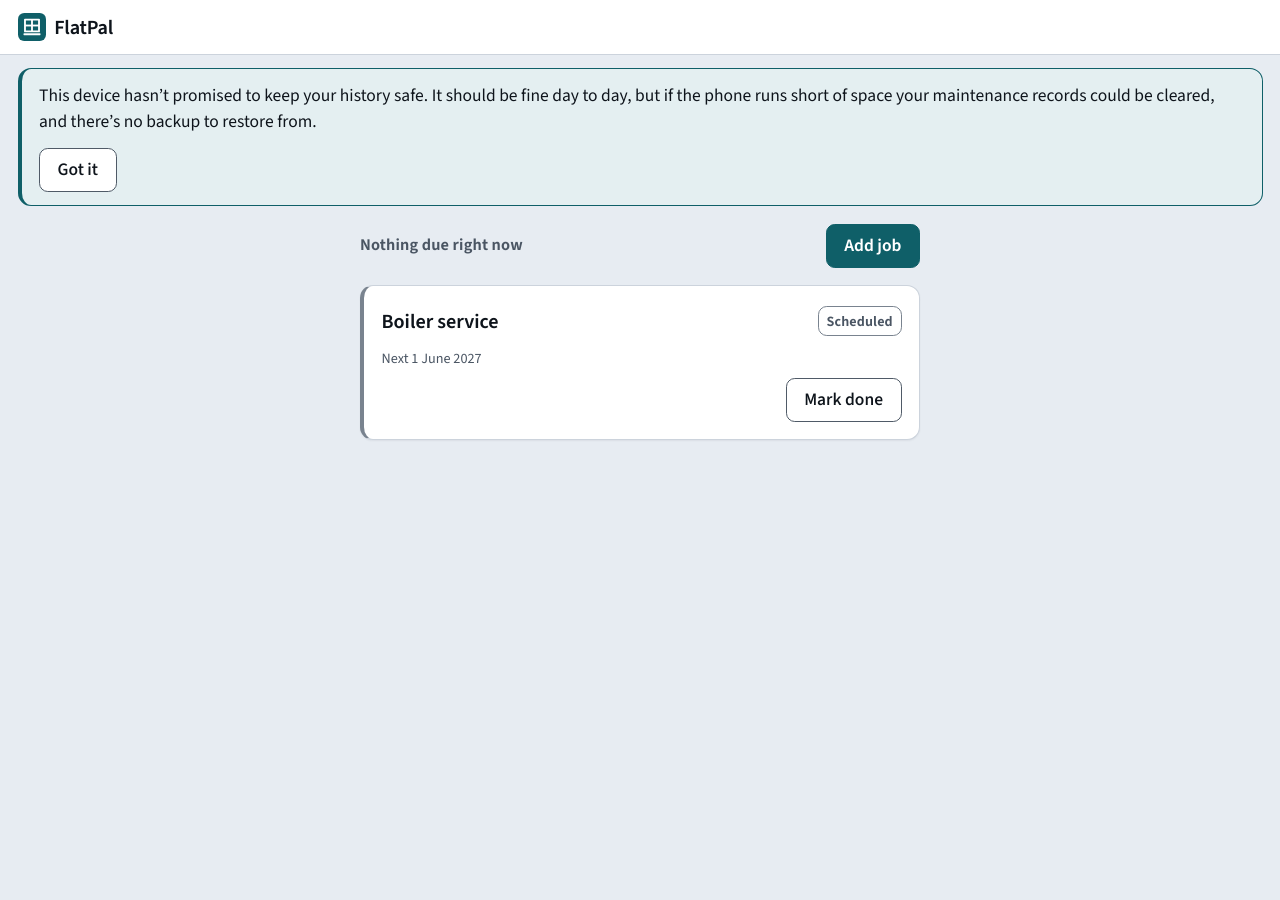
Test case: deleting a job › asks first, and has deleted nothing by the time it asks
Click the button "Boiler service" at (440, 321), box [382, 299, 499, 343]
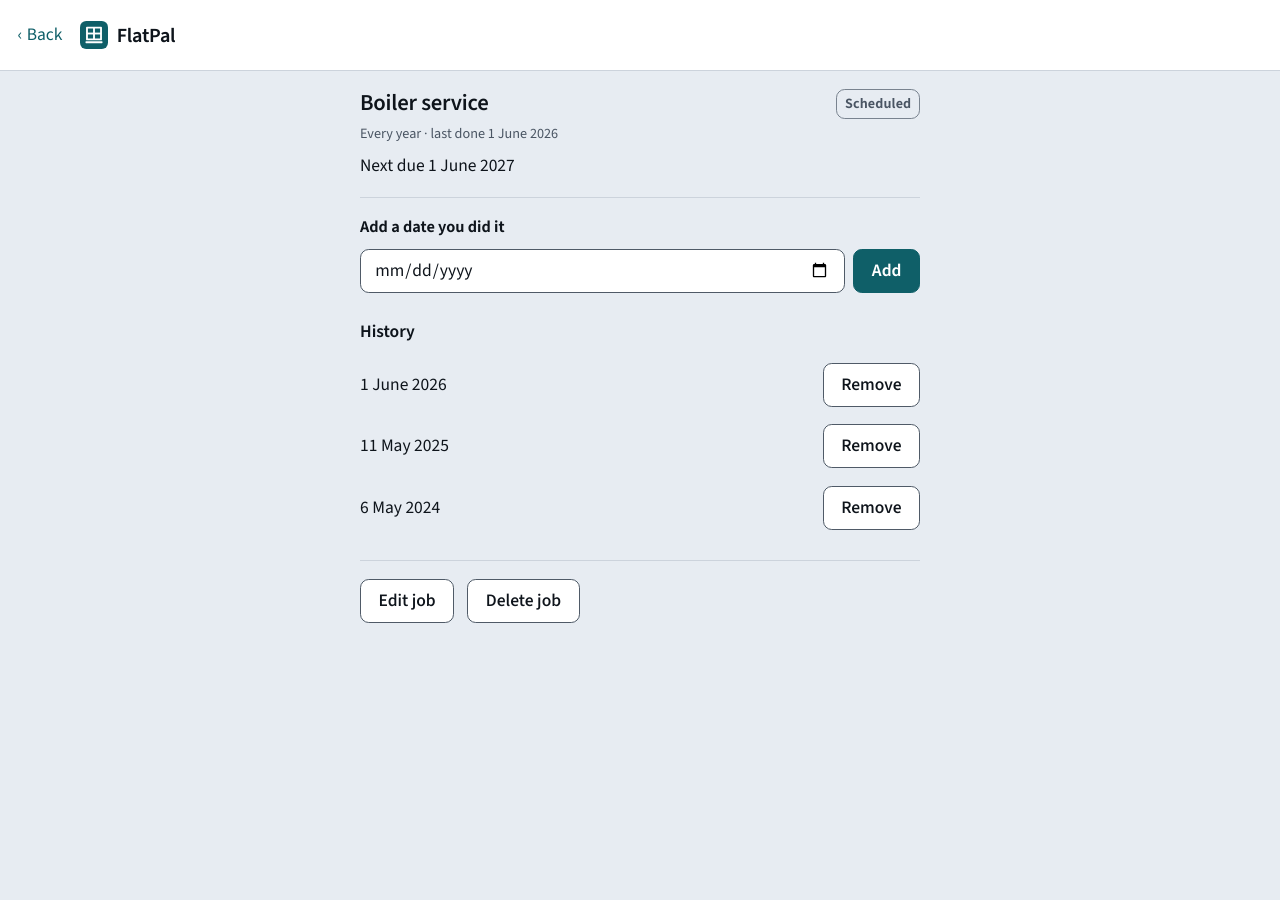
Click the button "Delete job" at (523, 601), box [467, 579, 580, 623]
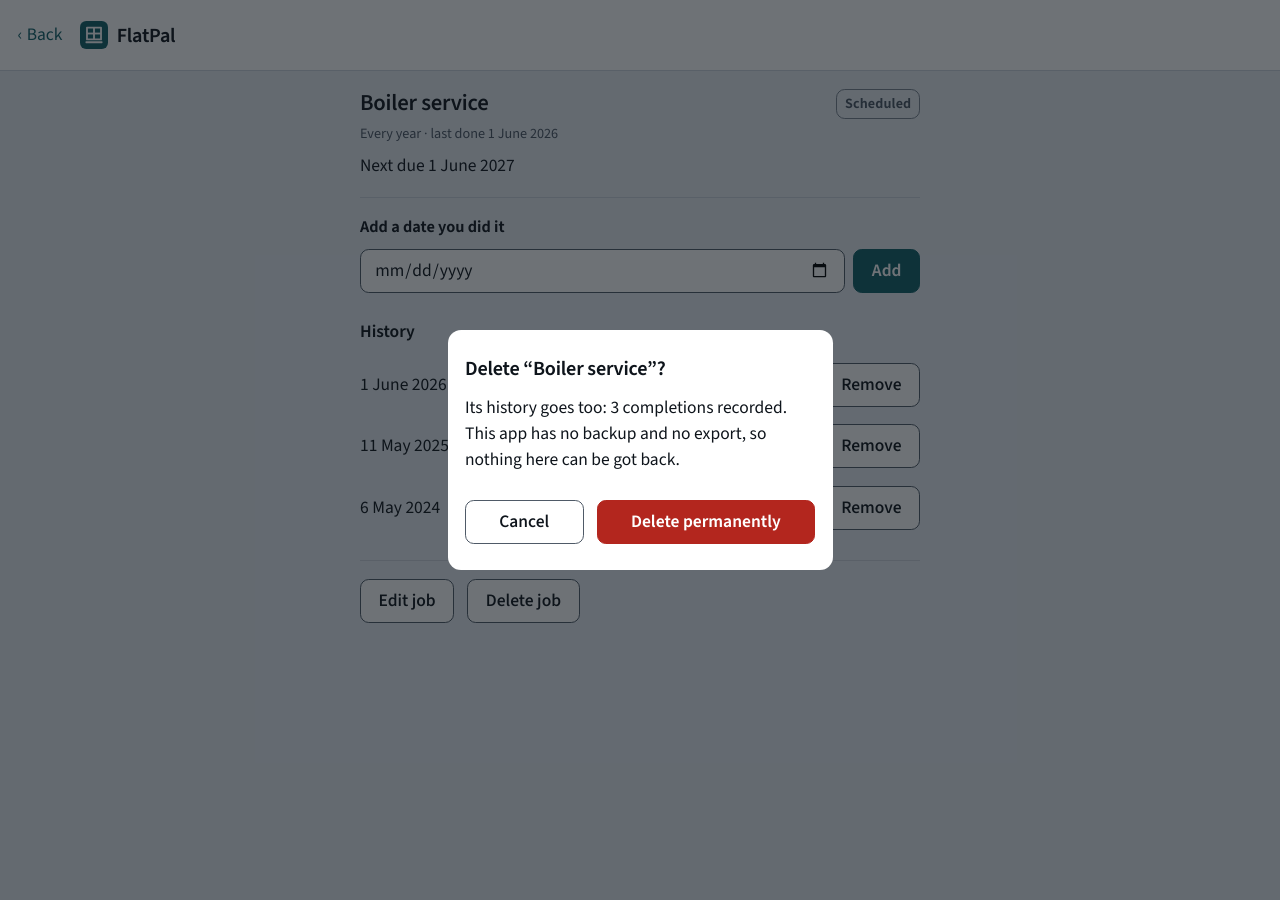
Now the dialog "Delete “Boiler service”?" is shown, box [448, 330, 832, 570]
